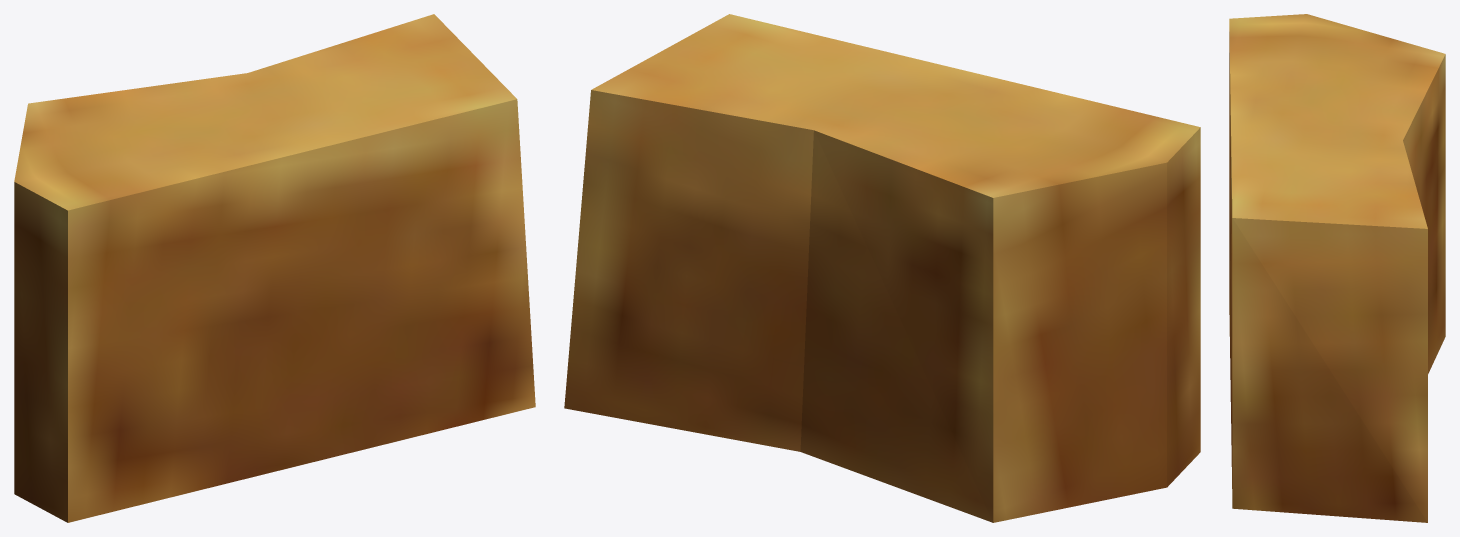
File: Stage_ShaMo_XiaoShiKuai03.FBX
3 views of the same model, side by side, from view 1: azimuth 30°, elevation 25°; view 2: azimuth 150°, elevation 25°; view 3: azimuth 270°, elevation 25° (orthographic). The views are drawn at different scales.
Visible parts, largest first — view 1: Stage_ShaMo_XiaoShiKuai03; view 2: Stage_ShaMo_XiaoShiKuai03; view 3: Stage_ShaMo_XiaoShiKuai03.
Part boxes in pixels (<box>): Stage_ShaMo_XiaoShiKuai03: <box>14,14,535,522</box>; Stage_ShaMo_XiaoShiKuai03: <box>564,14,1200,522</box>; Stage_ShaMo_XiaoShiKuai03: <box>1229,14,1445,522</box>.
Size of the model in its own units: 58.21 by 33.9 by 23.52.
